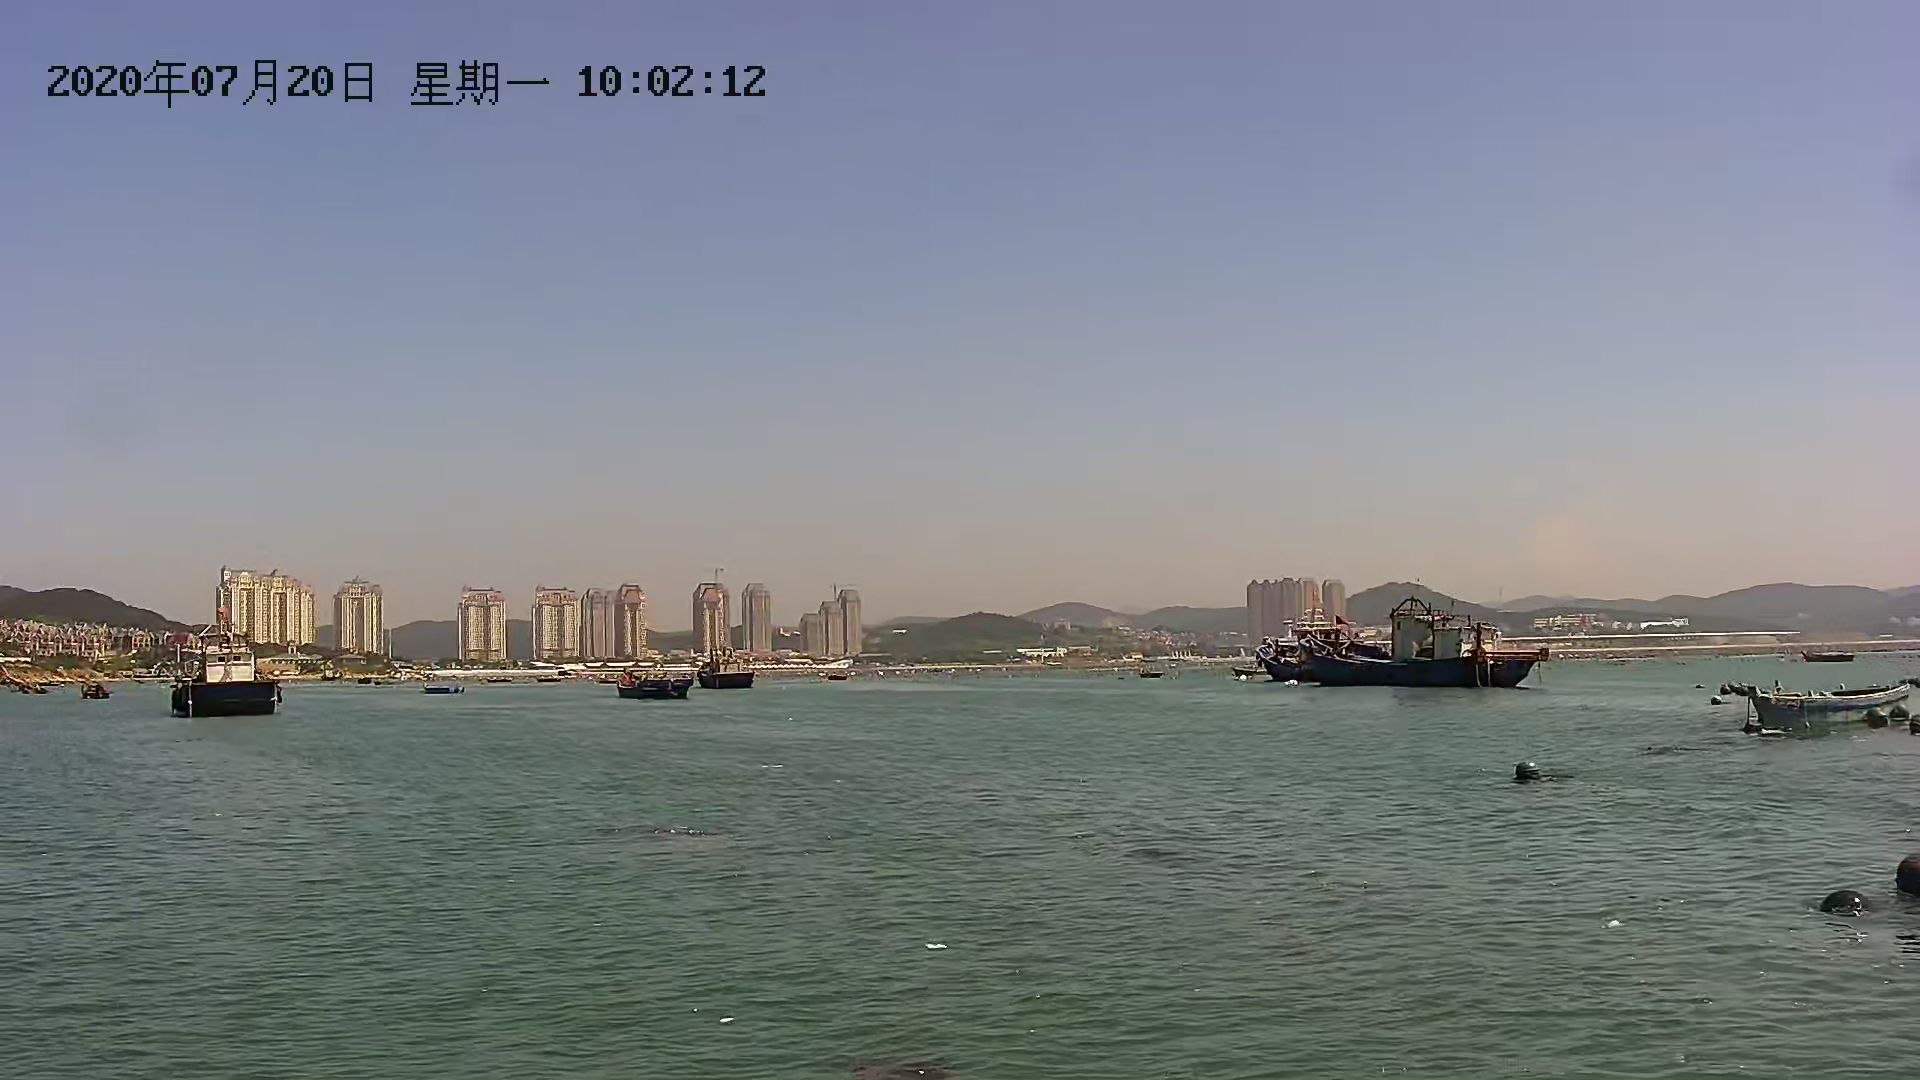ball: (1820, 880, 1874, 920), (1888, 855, 1920, 891), (1507, 758, 1544, 785)
boat: (1313, 607, 1549, 692), (1745, 673, 1920, 740), (612, 669, 696, 702), (694, 667, 761, 694)
ship: (171, 633, 278, 725)
